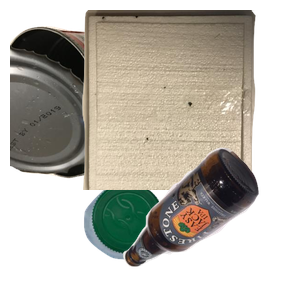glass: (120, 145, 300, 300)
metal: (10, 23, 193, 194)
plastic: (81, 179, 239, 300)
trash: (80, 10, 300, 190)
